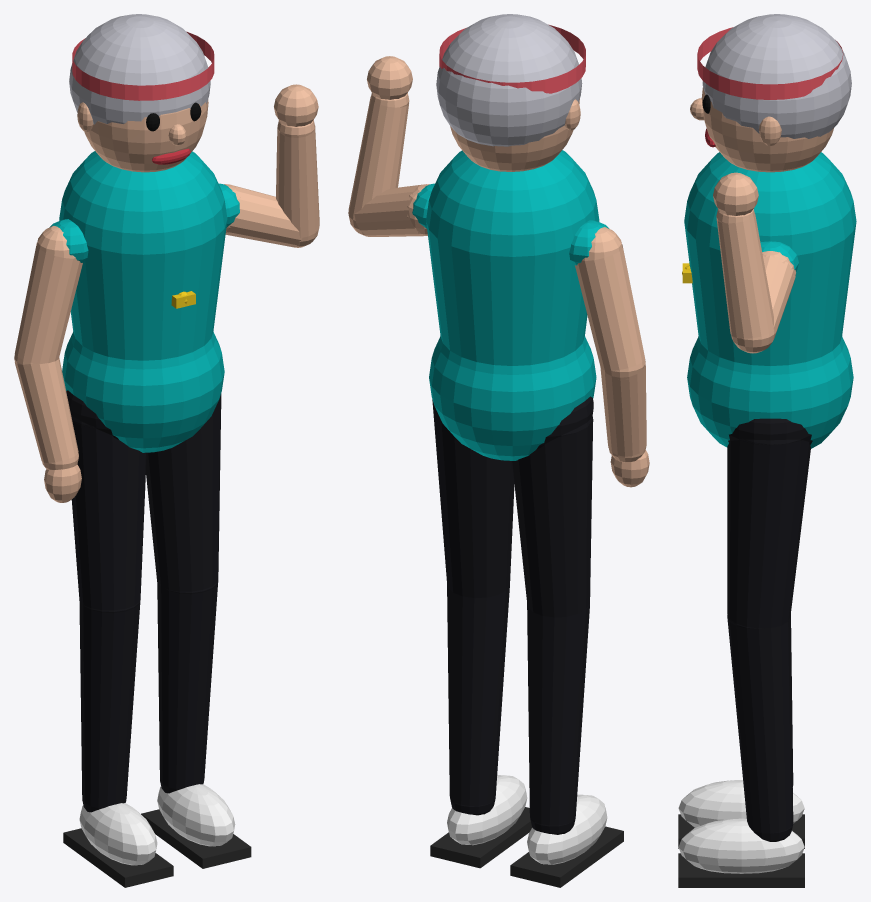
Rendered from coach_senior.obj.
3 views of the same model, side by side, from view 1: azimuth 30°, elevation 25°; view 2: azimuth 150°, elevation 25°; view 3: azimuth 270°, elevation 25° (orthographic). The views are drawn at different scales.
Visible parts, largest first — view 1: Top, Leg_L_upper, Leg_R_upper, Leg_R_lower, Leg_L_lower, Hair, Arm_L_upper, Head, Soles, Arm_L_lower, Arm_R_lower, Shoe_R (+7 smaller); view 2: Top, Hair, Leg_L_upper, Leg_L_lower, Leg_R_lower, Leg_R_upper, Arm_L_upper, Soles, Arm_R_lower, Arm_L_lower, Shoe_L, Shoe_R (+7 smaller); view 3: Top, Leg_R_upper, Hair, Leg_R_lower, Arm_R_lower, Shoe_R, Head, Soles, Shoe_L, Headband, Arm_R_upper, Hand_R (+3 smaller).
Part boxes in pixels (box(x1,y1,x2,y2)): Top: box(59, 151, 227, 452); Leg_L_upper: box(71, 416, 146, 613); Leg_R_upper: box(146, 393, 221, 594); Leg_R_lower: box(157, 580, 218, 793); Leg_L_lower: box(79, 599, 140, 812); Hair: box(69, 14, 210, 124); Arm_L_upper: box(14, 226, 82, 366); Head: box(84, 99, 208, 172); Soles: box(63, 809, 251, 887); Arm_L_lower: box(14, 358, 78, 469); Arm_R_lower: box(276, 120, 319, 237); Shoe_R: box(157, 784, 235, 846); Top: box(426, 150, 599, 460); Hair: box(436, 14, 582, 146); Leg_L_upper: box(512, 416, 593, 617); Leg_L_lower: box(527, 603, 589, 834); Leg_R_lower: box(447, 584, 509, 815); Leg_R_upper: box(432, 399, 514, 598); Arm_L_upper: box(575, 227, 645, 379); Soles: box(430, 807, 623, 887); Arm_R_lower: box(348, 93, 409, 216); Arm_L_lower: box(600, 359, 646, 462); Shoe_L: box(527, 794, 607, 864); Shoe_R: box(447, 775, 527, 845); Top: box(684, 152, 856, 448); Leg_R_upper: box(727, 438, 810, 628); Hair: box(702, 14, 851, 138); Leg_R_lower: box(727, 617, 793, 841); Arm_R_lower: box(716, 209, 774, 338); Shoe_R: box(678, 818, 804, 873); Head: box(701, 87, 833, 172); Soles: box(678, 814, 804, 887); Shoe_L: box(678, 780, 804, 827); Headband: box(697, 27, 843, 99); Arm_R_upper: box(731, 251, 795, 353); Hand_R: box(713, 172, 758, 215).
Bounding box in the file's own units: 0.6 × 1.61 × 0.31.
